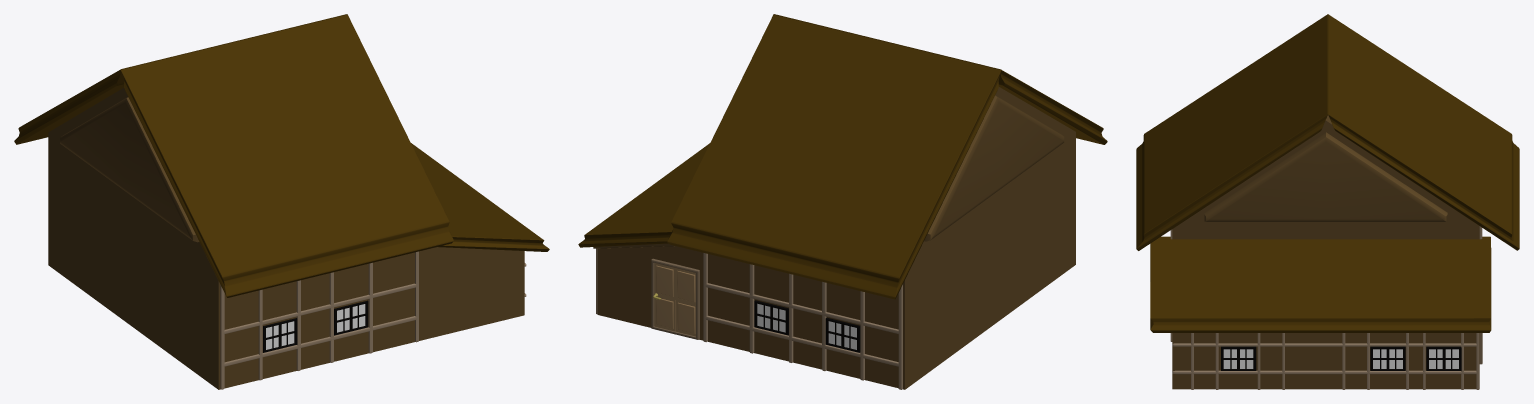
The model's file is house 3.fbx.
3 renders of one model, left to right at view 1: azimuth 30°, elevation 25°; view 2: azimuth 150°, elevation 25°; view 3: azimuth 270°, elevation 25°, orthographic. The views are drawn at different scales.
Visible parts, largest first — view 1: polySurface1166; view 2: polySurface1166; view 3: polySurface1166.
Part boxes in pixels (x1=…): polySurface1166: x1=14, y1=14, x2=549, y2=389; polySurface1166: x1=578, y1=14, x2=1107, y2=389; polySurface1166: x1=1136, y1=14, x2=1519, y2=389.
Size of the model in its own units: 1390 by 1043 by 1540.
